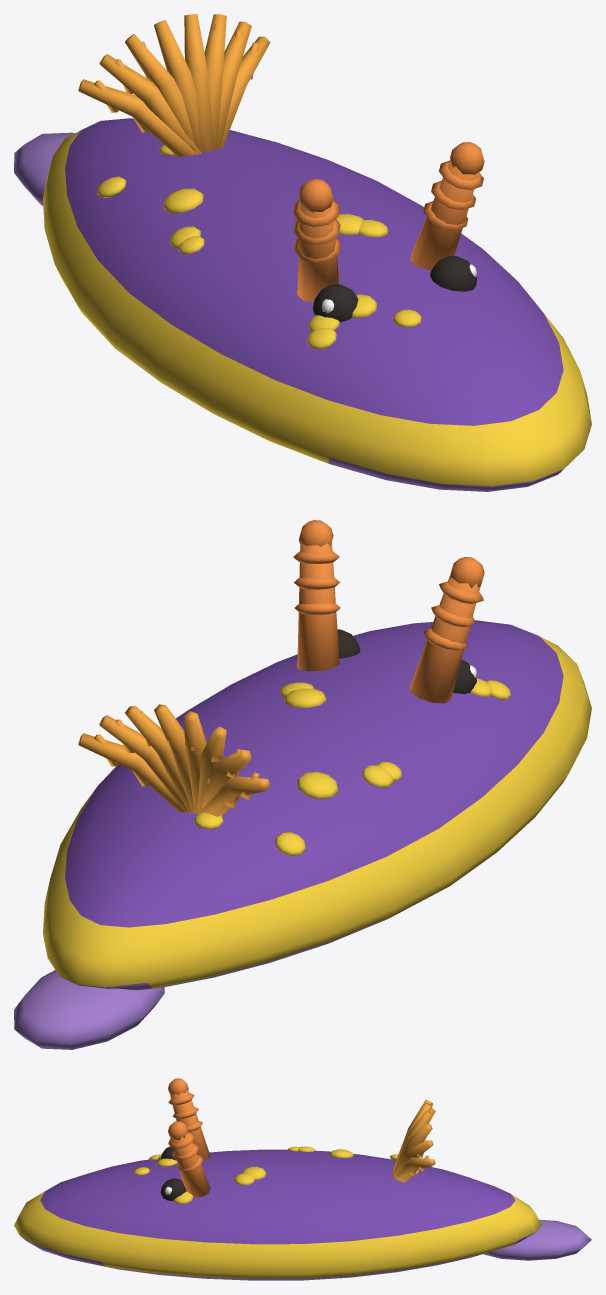
The model's file is sea-sea-slug.glb.
The picture shows the model from 3 angles, top to bottom: view 1: azimuth 30°, elevation 25°; view 2: azimuth 150°, elevation 25°; view 3: azimuth 270°, elevation 25°; orthographic projection. The views are drawn at different scales.
Parts seen in each view (by area): view 1: slug; view 2: slug; view 3: slug.
Boxes of the visible parts, box(x1,y1,x2,y2) form: slug: box(14, 14, 591, 491); slug: box(14, 520, 591, 1049); slug: box(14, 1078, 591, 1280).
Bounding box in the file's own units: 0.1138 × 0.0835 × 0.2847.
